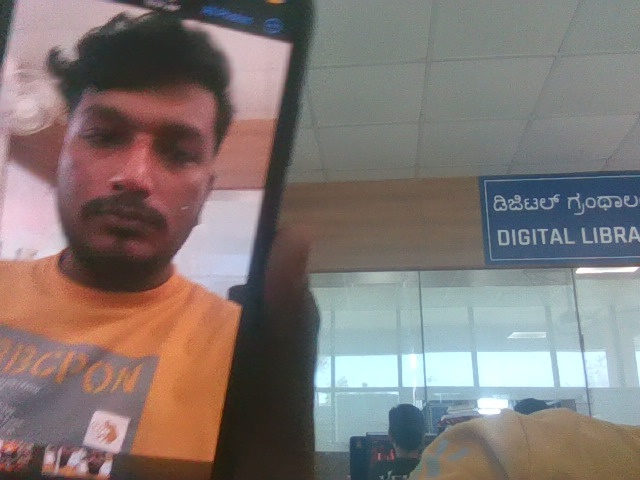fake: (33, 0, 244, 299)
